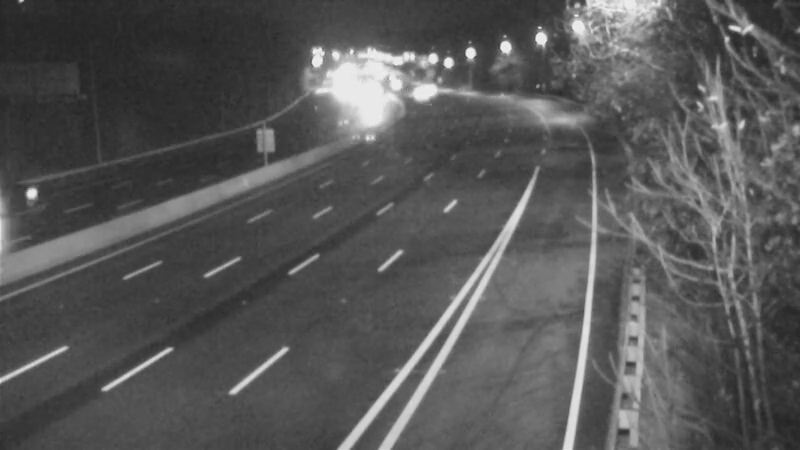vehicle: (1, 155, 74, 235), (397, 71, 447, 121)
